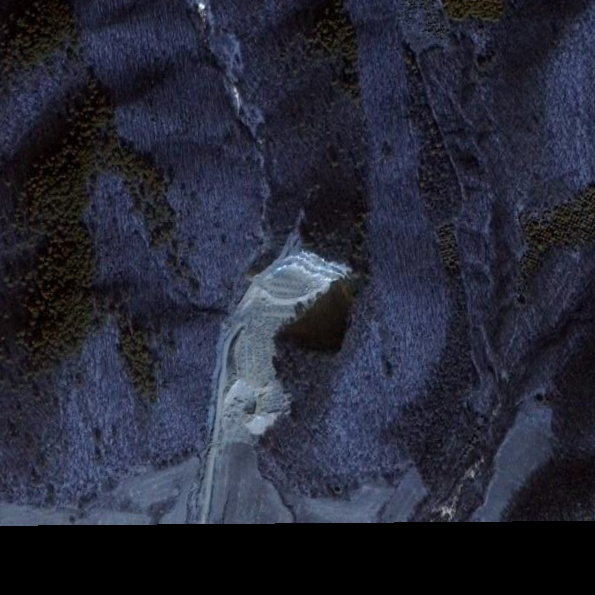slope: (217, 249, 350, 448)
